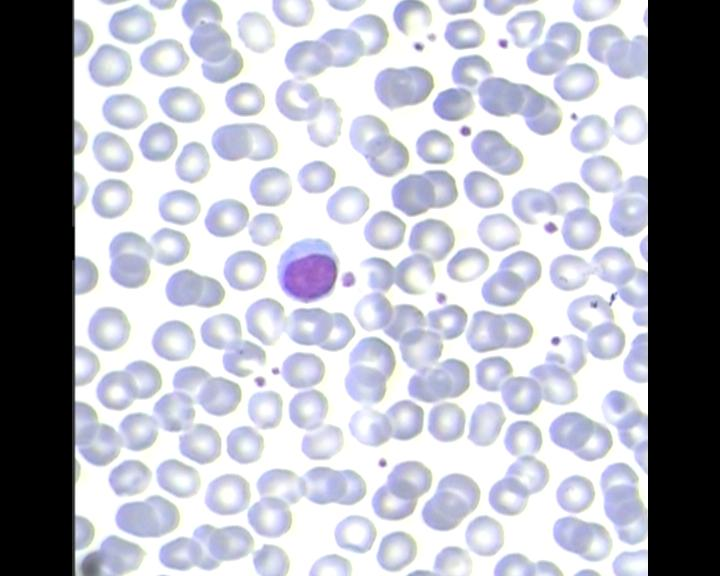lymp: (272, 234, 345, 307)
